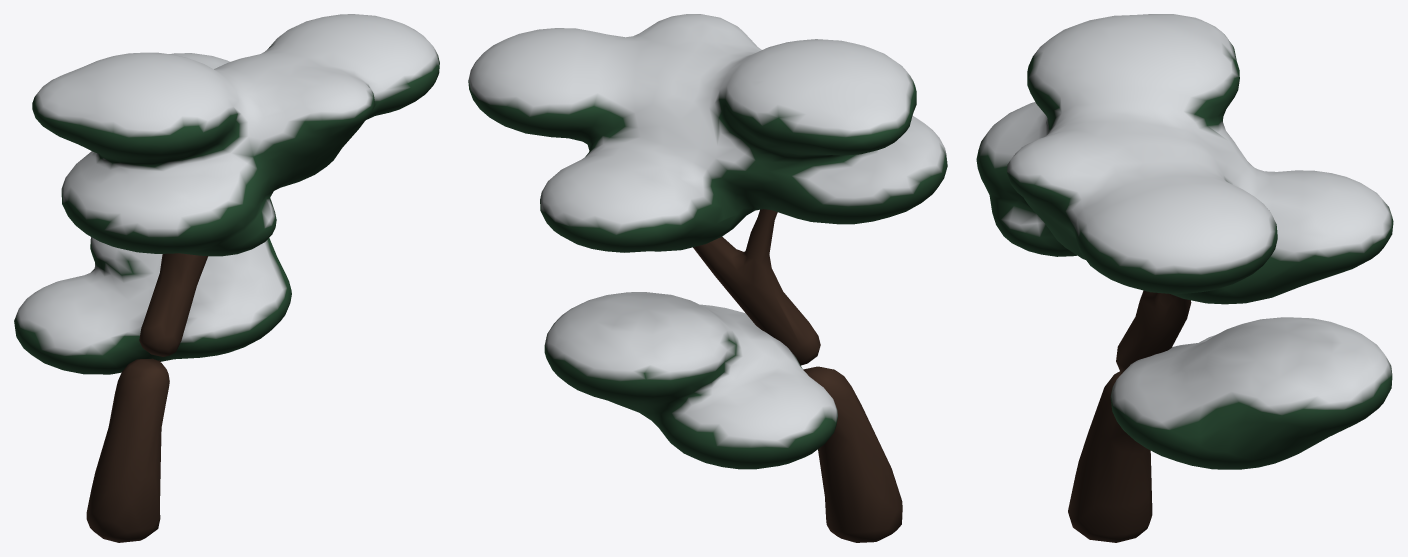
File: tree_01_6.glb
3 views of the same model, side by side, from view 1: azimuth 30°, elevation 25°; view 2: azimuth 150°, elevation 25°; view 3: azimuth 270°, elevation 25° (orthographic). The views are drawn at different scales.
Parts seen in each view (by area): view 1: canopy, bark; view 2: canopy, bark; view 3: canopy, bark.
Boxes of the visible parts, <box> form: canopy: <box>14,14,439,374</box>; bark: <box>86,253,207,542</box>; canopy: <box>468,14,947,469</box>; bark: <box>693,209,902,542</box>; canopy: <box>976,14,1393,469</box>; bark: <box>1068,290,1191,542</box>.
Size of the model in its own units: 3.32 by 3.65 by 2.66.
